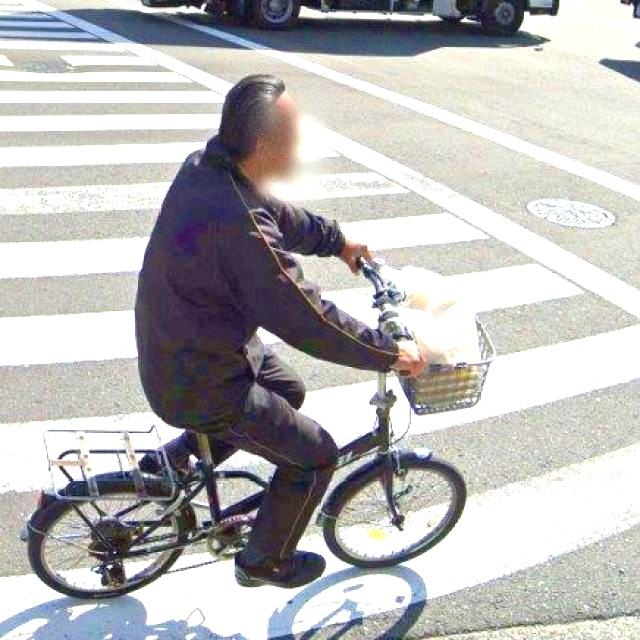bicycle: (13, 233, 516, 615)
